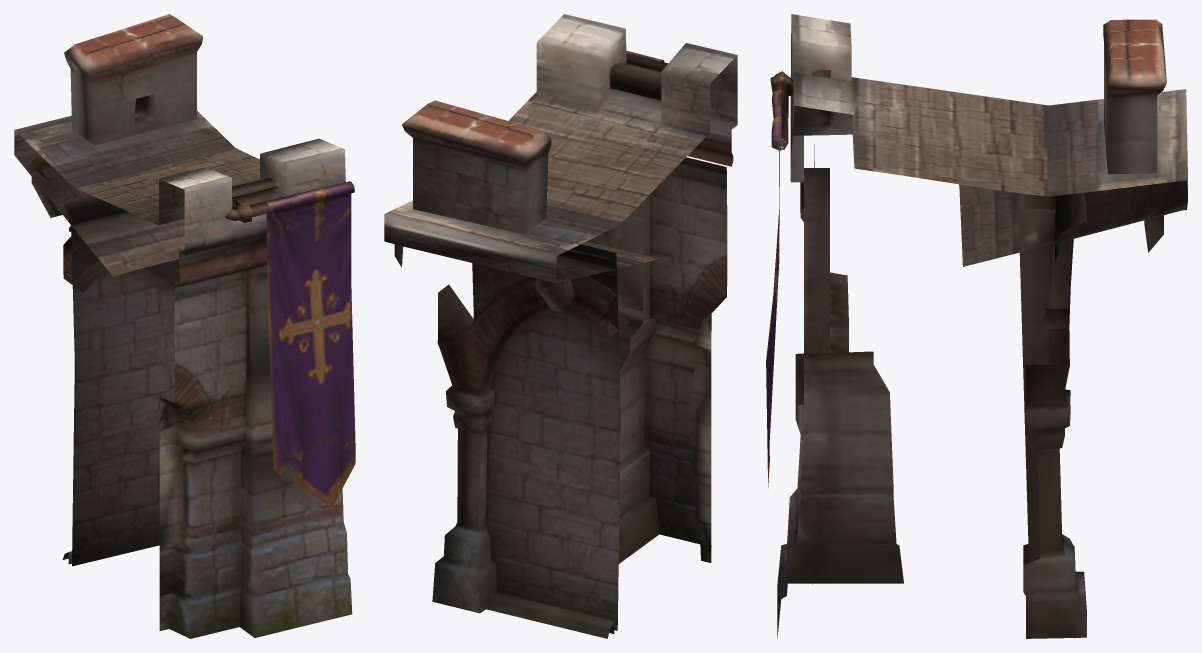
Rendered from WallRunRight_23.fbx.
3 renders of one model, left to right at view 1: azimuth 30°, elevation 25°; view 2: azimuth 150°, elevation 25°; view 3: azimuth 270°, elevation 25°, orthographic. The views are drawn at different scales.
Visible parts, largest first — view 1: Imported wall section.084; view 2: Imported wall section.084; view 3: Imported wall section.084.
Boxes of the visible parts, x1,y1,x2,y2 form: Imported wall section.084: (14, 14, 355, 638); Imported wall section.084: (384, 14, 737, 638); Imported wall section.084: (766, 14, 1187, 638).
Size of the model in its own units: 200 by 571 by 389.
1 material, 1 textured.
